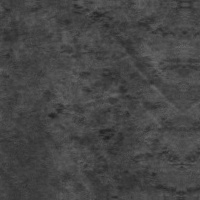rolled-in_scale: (35, 66, 141, 197), (48, 3, 111, 62)
